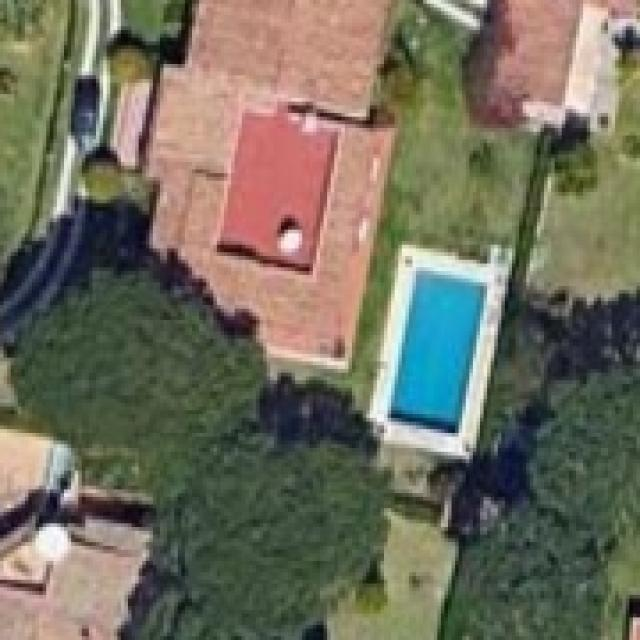pool: (358, 241, 514, 457)
